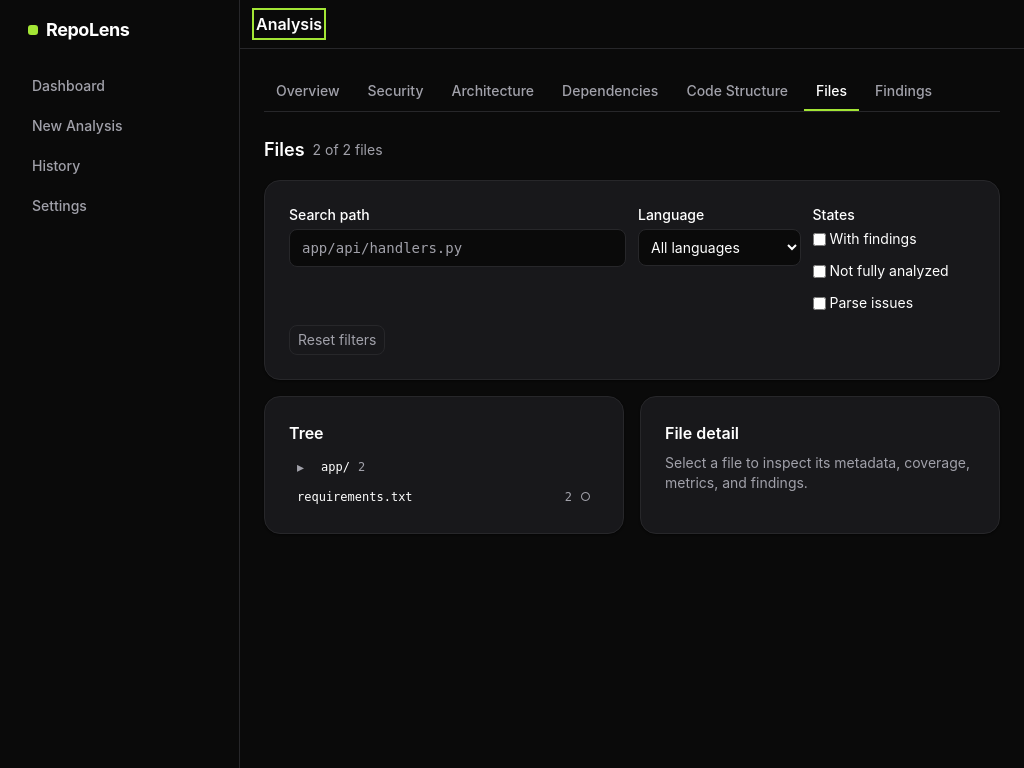
Test case: Files explorer › searches paths and filters states via URL
This screenshot has width=1024, height=768.
Expected: the heading "Files" is shown, top-left (264, 136), bottom-right (304, 164)
In the search field labelled "Search path": [458, 248] box top-left (289, 229), bottom-right (626, 267), type "requirements"
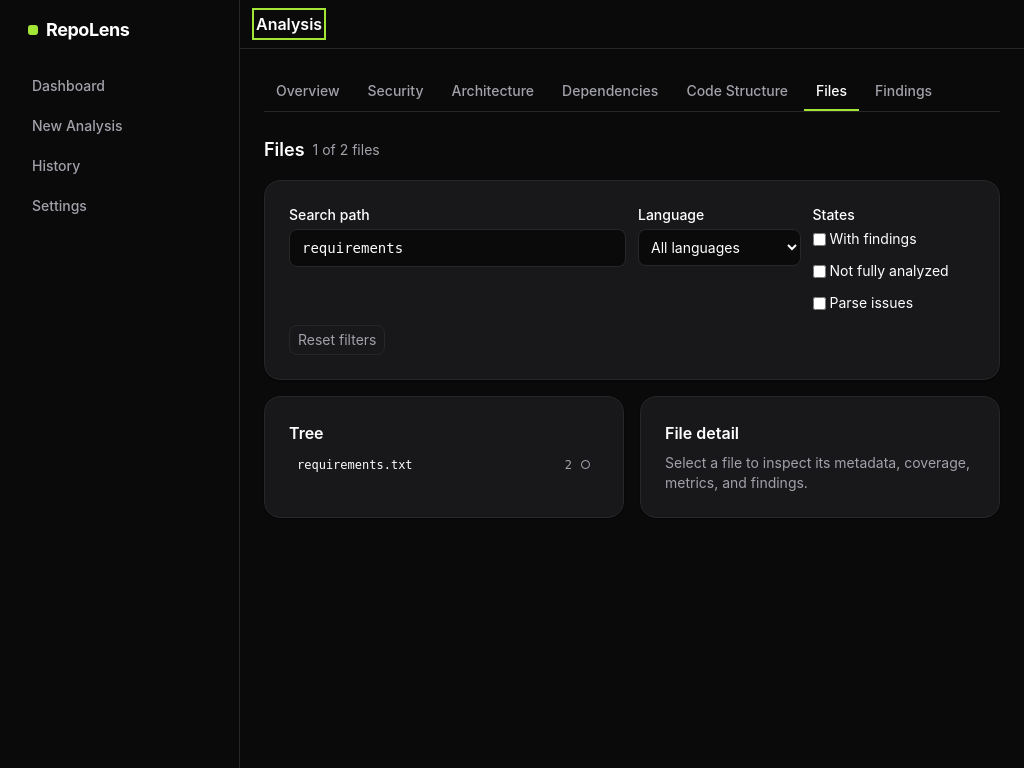
Expected: the text "1 of 2 files" is shown, top-left (312, 140), bottom-right (380, 160)
Click the button "Reset filters": [337, 340] box top-left (289, 325), bottom-right (386, 355)
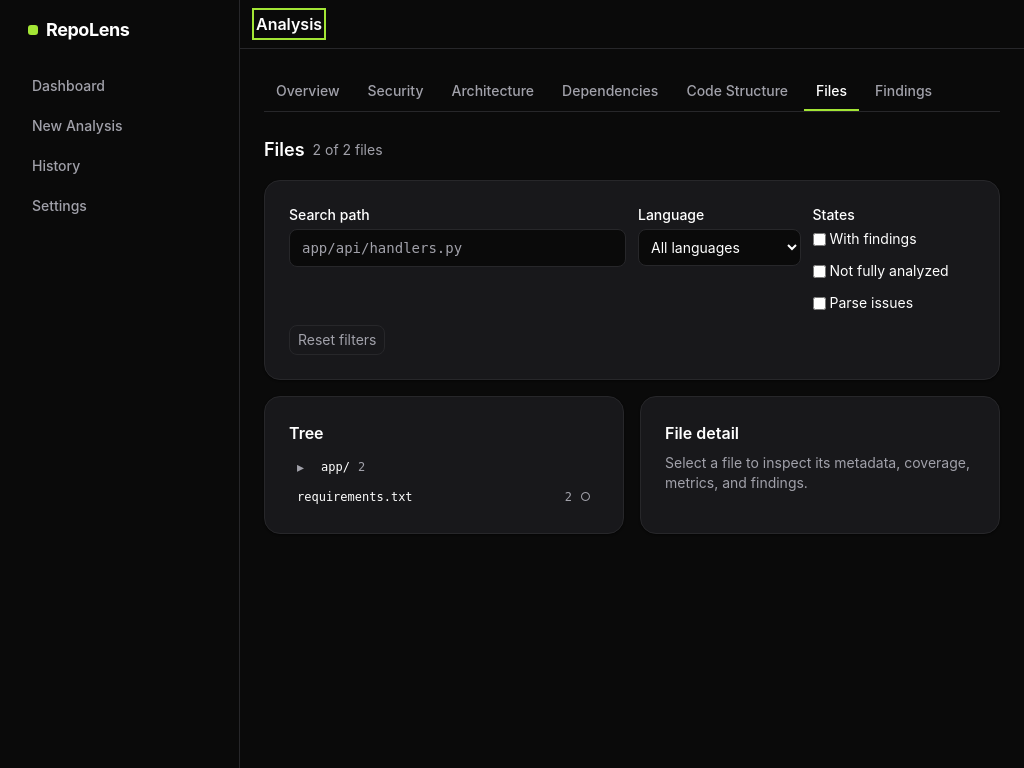
Expected: the text "2 of 2 files" is shown, top-left (312, 140), bottom-right (382, 160)
